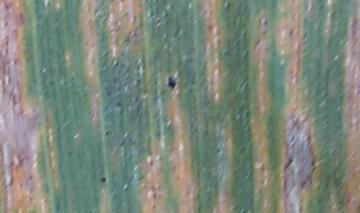tarspot: (166, 75, 178, 91), (281, 157, 293, 171), (287, 27, 295, 38), (99, 176, 109, 184), (104, 128, 110, 137)
